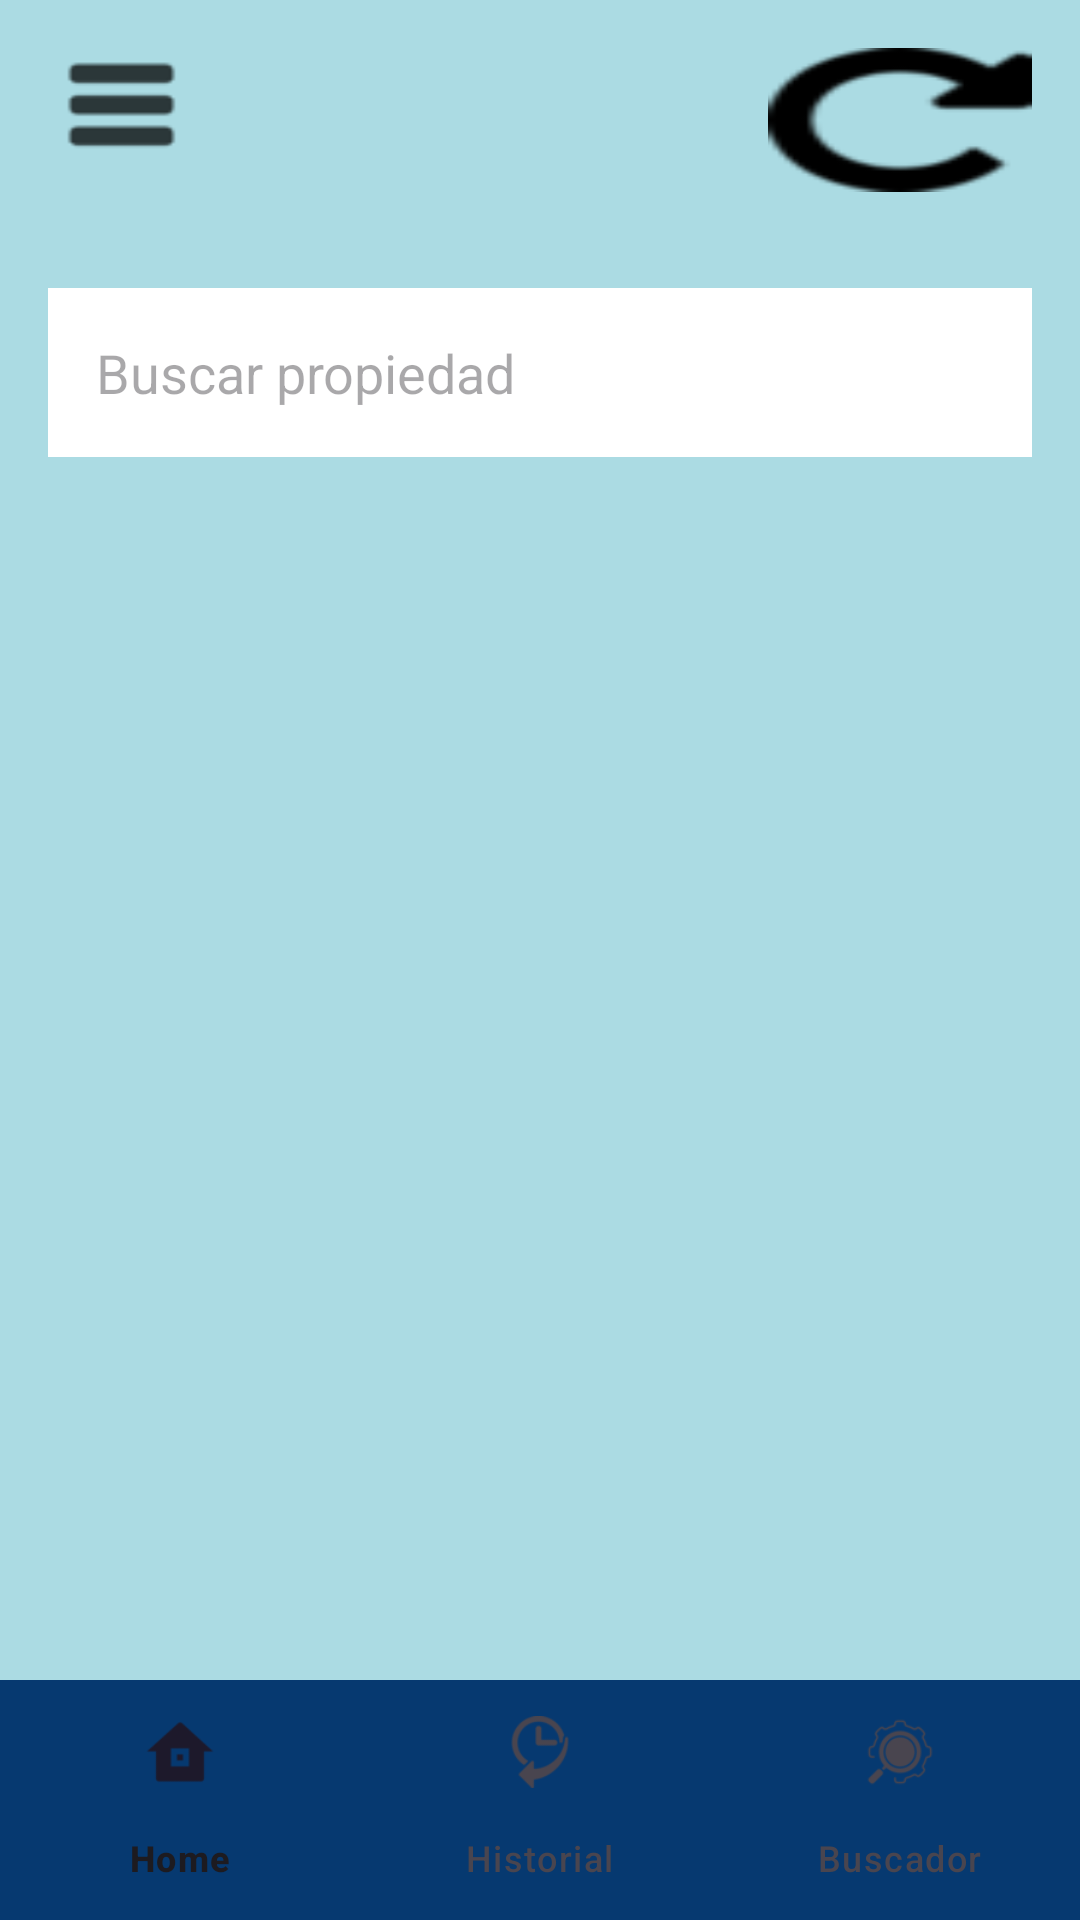

Screen size 1080 × 1920. Icon name, then its box in pixels as bbox=(x1, y1, x2, y2):
actualizar: bbox=(768, 48, 1032, 192)
amburguesa: bbox=(68, 62, 175, 147)
